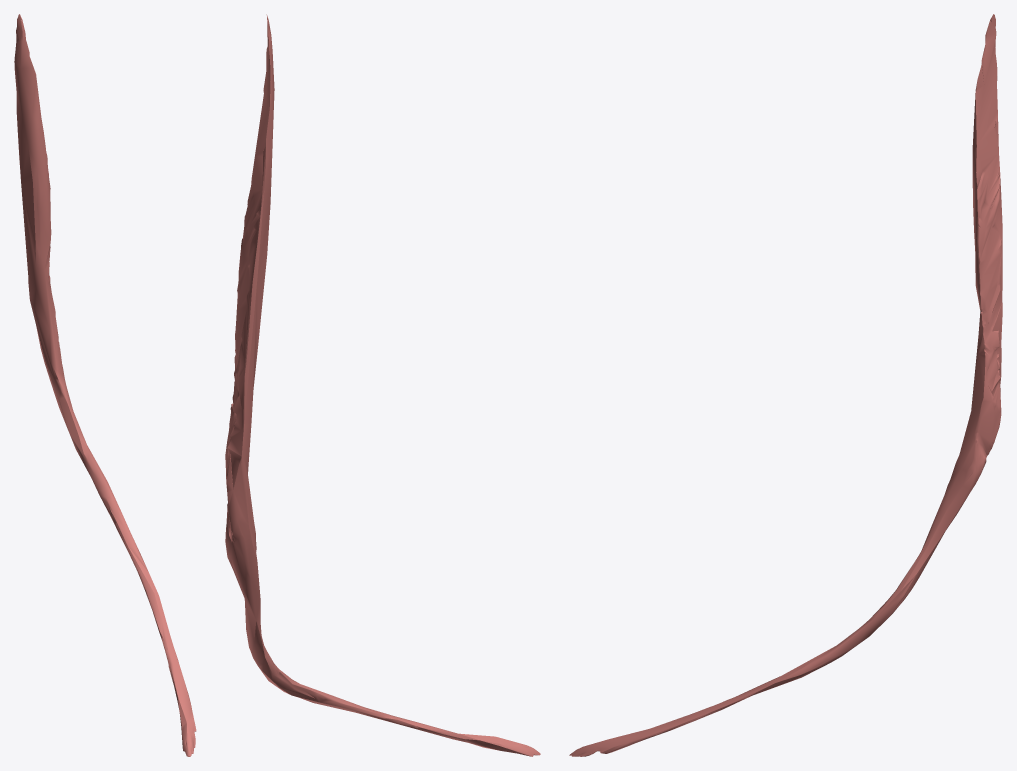
File: fma22546_fj1408.glb
3 views of the same model, side by side, from view 1: azimuth 30°, elevation 25°; view 2: azimuth 150°, elevation 25°; view 3: azimuth 270°, elevation 25° (orthographic). The views are drawn at different scales.
Parts seen in each view (by area): view 1: FMA22546_FJ1408; view 2: FMA22546_FJ1408; view 3: FMA22546_FJ1408.
Part boxes in pixels (x1,y1,x2,y2): FMA22546_FJ1408: [14, 14, 196, 756]; FMA22546_FJ1408: [225, 14, 540, 756]; FMA22546_FJ1408: [569, 14, 1002, 756].
Size of the model in its own units: 0.0277 by 0.2725 by 0.1439.
